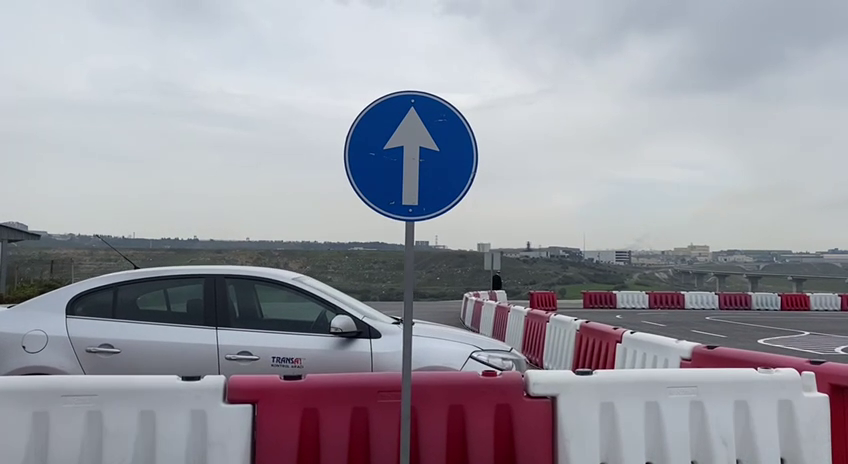forward: (340, 86, 480, 223)
